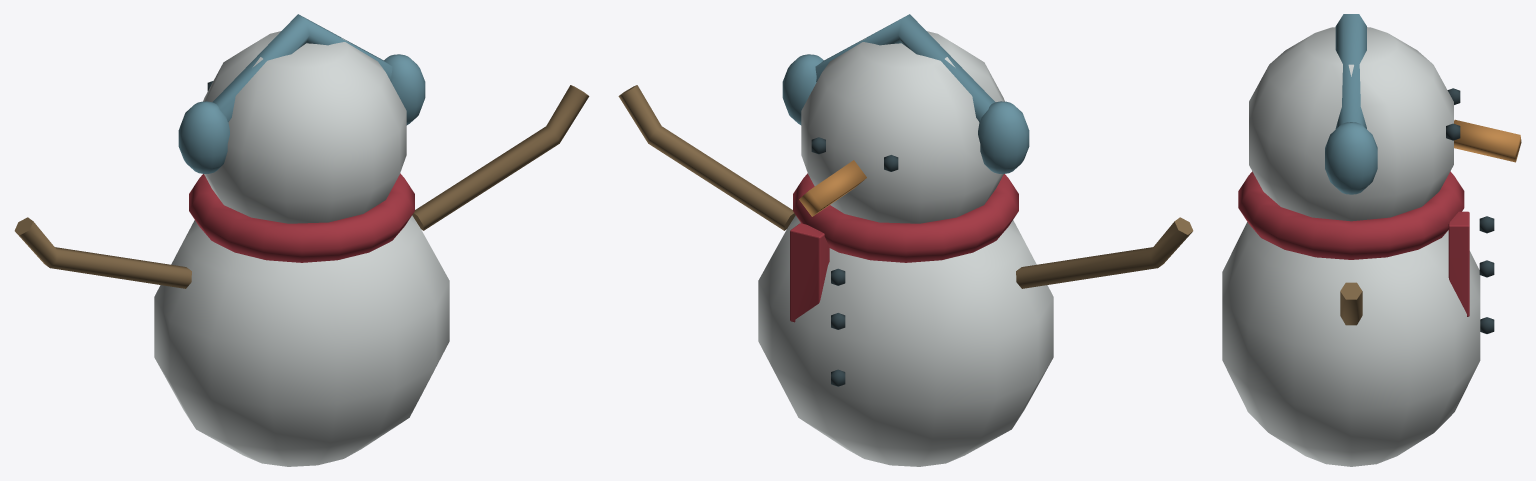
File: snowman_little.glb
3 renders of one model, left to right at view 1: azimuth 30°, elevation 25°; view 2: azimuth 150°, elevation 25°; view 3: azimuth 270°, elevation 25°, orthographic.
Bounding box in the file's own units: 1.47 × 1.08 × 0.6708.
